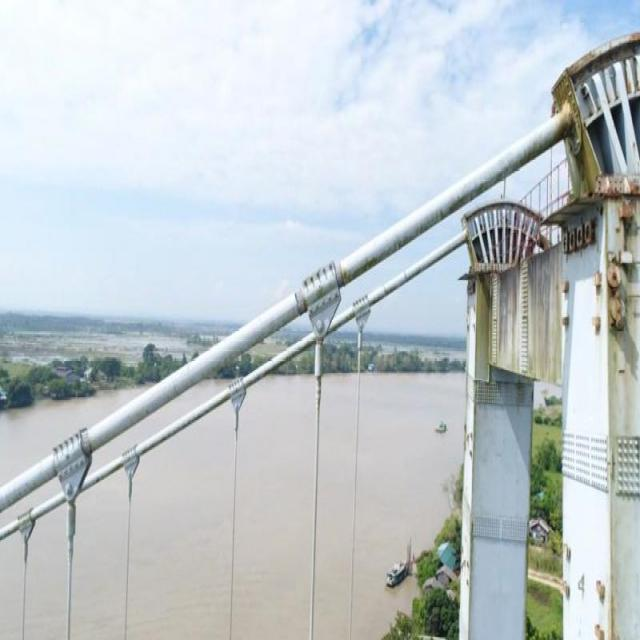Slippage: (294, 288, 306, 316), (334, 262, 344, 288), (82, 429, 92, 454)
